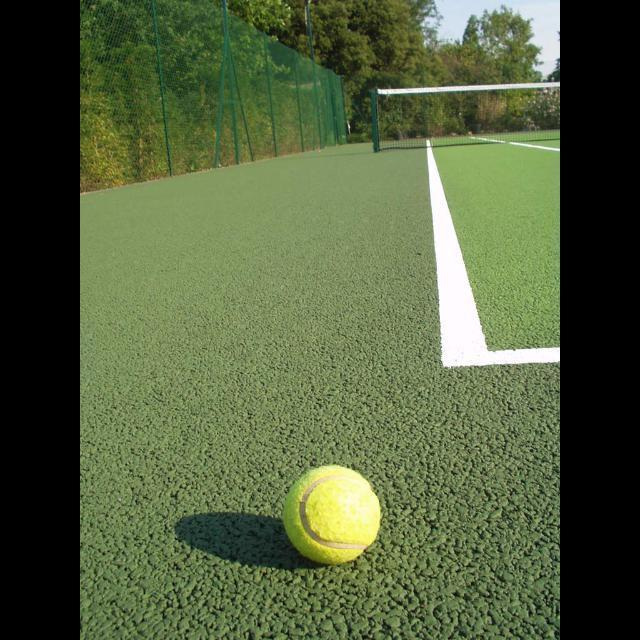tennis-ball: (282, 464, 383, 566)
